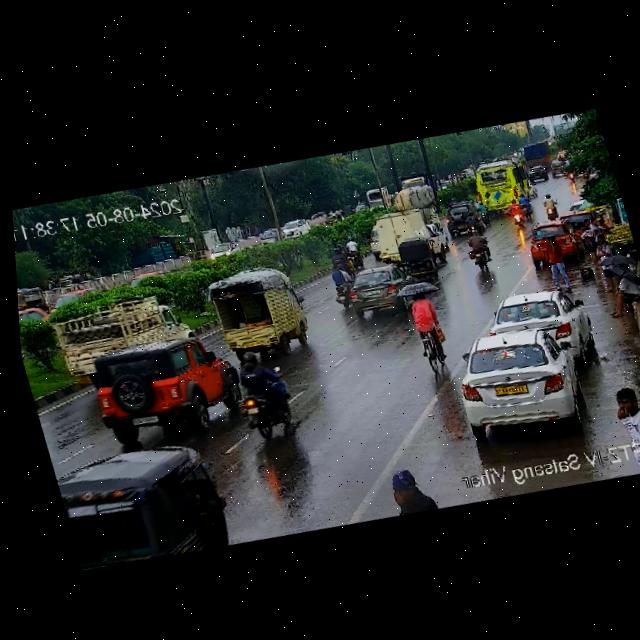bus: (471, 154, 533, 214)
car: (50, 427, 238, 580), (79, 325, 245, 455), (441, 315, 592, 445), (483, 279, 590, 366), (337, 255, 424, 322), (391, 232, 445, 279), (444, 202, 487, 239), (17, 280, 50, 318), (278, 213, 314, 241), (525, 162, 549, 184), (548, 158, 567, 179), (564, 158, 578, 180)
motorcycle: (223, 342, 304, 443), (403, 289, 454, 375), (461, 231, 501, 274), (324, 262, 359, 311), (501, 195, 526, 228), (469, 198, 493, 225), (539, 191, 559, 221), (517, 192, 535, 220)
person: (356, 463, 441, 524), (603, 379, 640, 446), (600, 269, 640, 318), (539, 232, 573, 285), (592, 231, 619, 289), (578, 216, 603, 267), (590, 216, 600, 227)
truck: (44, 282, 198, 389), (198, 259, 315, 369), (355, 200, 445, 270), (392, 178, 440, 218), (520, 138, 554, 168)
